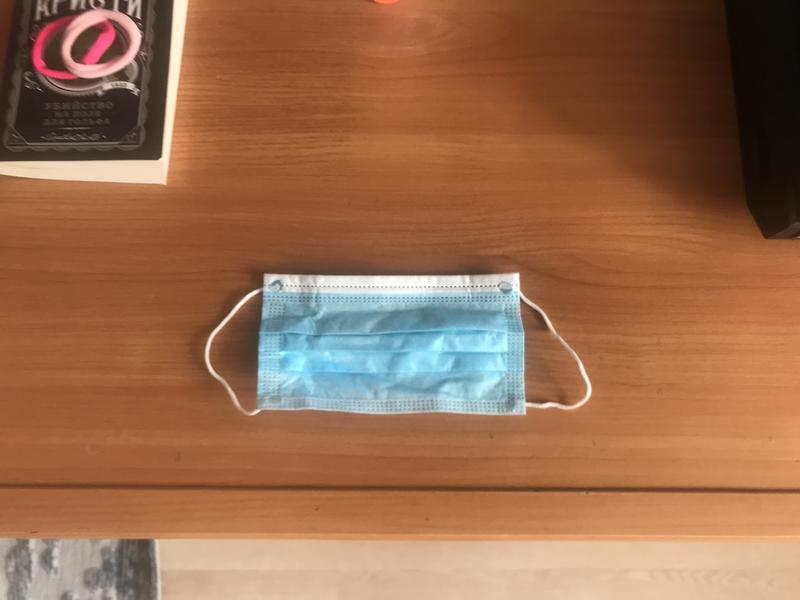medical_mask: (201, 271, 591, 421)
